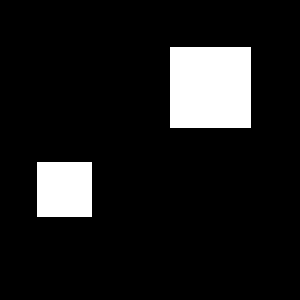circle: (170, 47, 251, 128), (37, 162, 92, 217)
